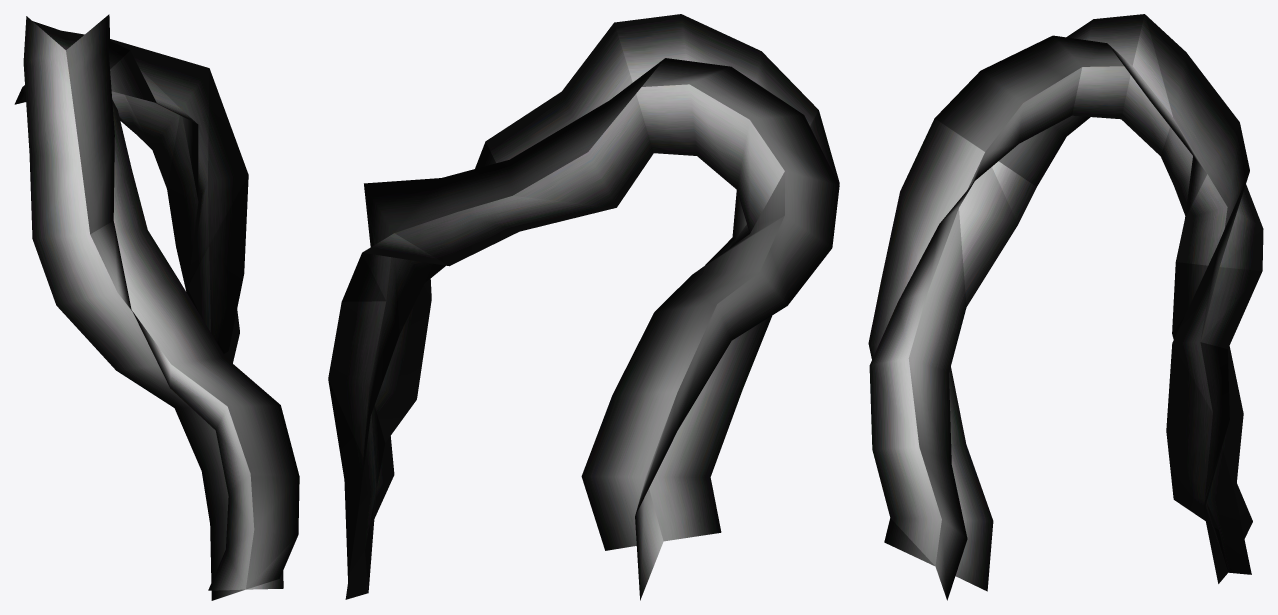
The model's file is vfx_kurp_0594.dae.
3 renders of one model, left to right at view 1: azimuth 30°, elevation 25°; view 2: azimuth 150°, elevation 25°; view 3: azimuth 270°, elevation 25°, orthographic. The views are drawn at different scales.
Visible parts, largest first — view 1: vfx_kurp_0594; view 2: vfx_kurp_0594; view 3: vfx_kurp_0594.
Boxes of the visible parts, x1,y1,x2,y2 form: vfx_kurp_0594: (14,14,299,600); vfx_kurp_0594: (328,14,839,600); vfx_kurp_0594: (868,14,1263,600).
Size of the model in its own units: 3.38 by 3.8 by 5.62.
Materials: 1 (1 with a texture image).
